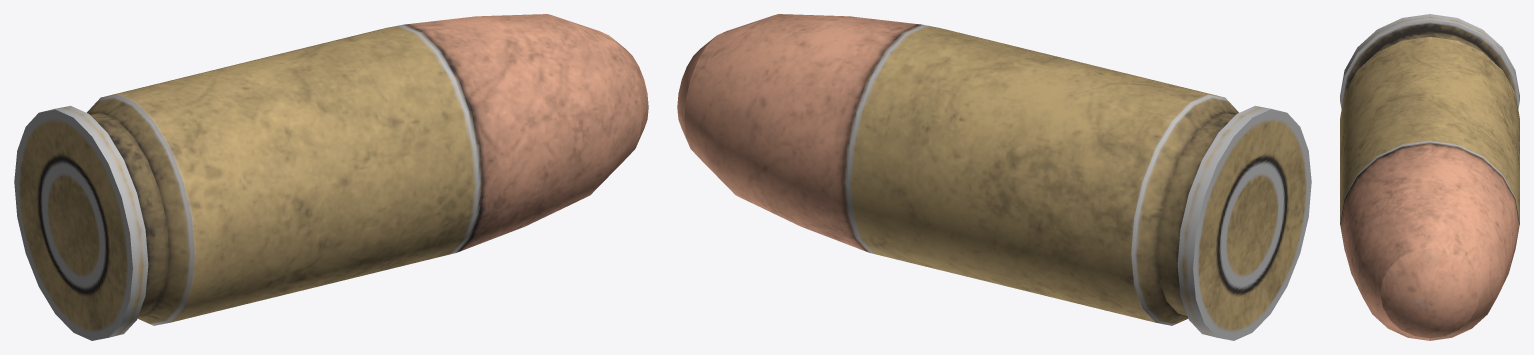
File: SM_Ammo_9x19.fbx
The picture shows the model from 3 angles, left to right: view 1: azimuth 30°, elevation 25°; view 2: azimuth 150°, elevation 25°; view 3: azimuth 270°, elevation 25°; orthographic projection. The views are drawn at different scales.
Visible parts, largest first — view 1: SM_Ammo_9x19_LOD0; view 2: SM_Ammo_9x19_LOD0; view 3: SM_Ammo_9x19_LOD0.
Part boxes in pixels (left/top/right/bottom): SM_Ammo_9x19_LOD0: left=14, top=14, right=648, bottom=340; SM_Ammo_9x19_LOD0: left=677, top=14, right=1311, bottom=340; SM_Ammo_9x19_LOD0: left=1340, top=14, right=1519, bottom=340.
Bounding box in the file's own units: 2.28 × 0.8304 × 0.8304.
Materials: 1 (1 with a texture image).
